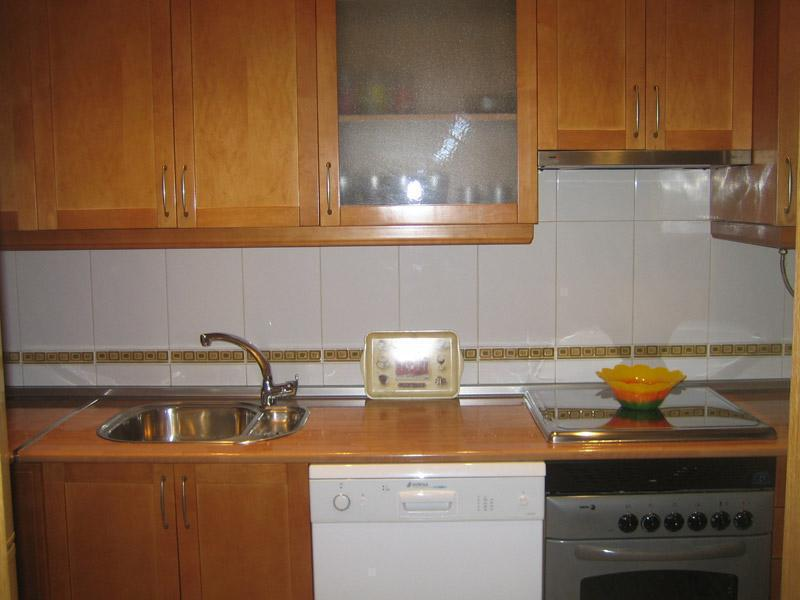Lavaplatos: (98, 321, 317, 452)
